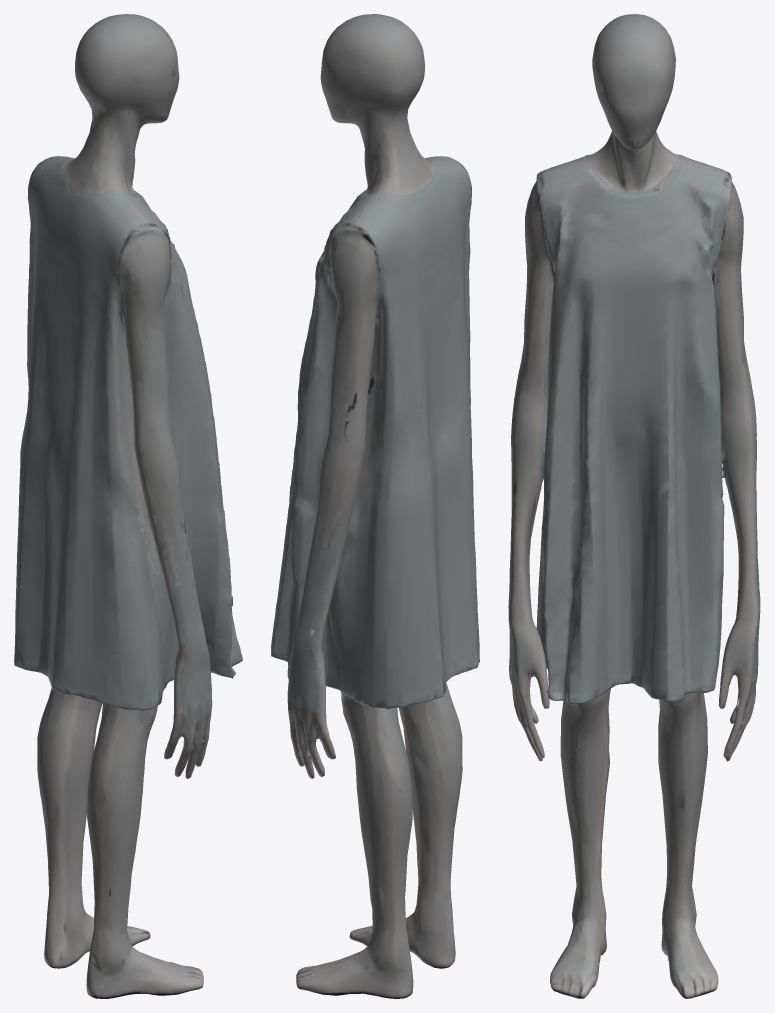
File: repaired.glb
The picture shows the model from 3 angles, left to right: view 1: azimuth 30°, elevation 25°; view 2: azimuth 150°, elevation 25°; view 3: azimuth 270°, elevation 25°; orthographic projection.
Parts seen in each view (by area): view 1: repaired; view 2: repaired; view 3: repaired.
Part boxes in pixels (<box>): repaired: <box>14,14,242,998</box>; repaired: <box>271,14,479,998</box>; repaired: <box>508,14,760,998</box>.
Bounding box in the file's own units: 0.1932 × 0.9996 × 0.2392.
Materials: 1 (1 with a texture image).
